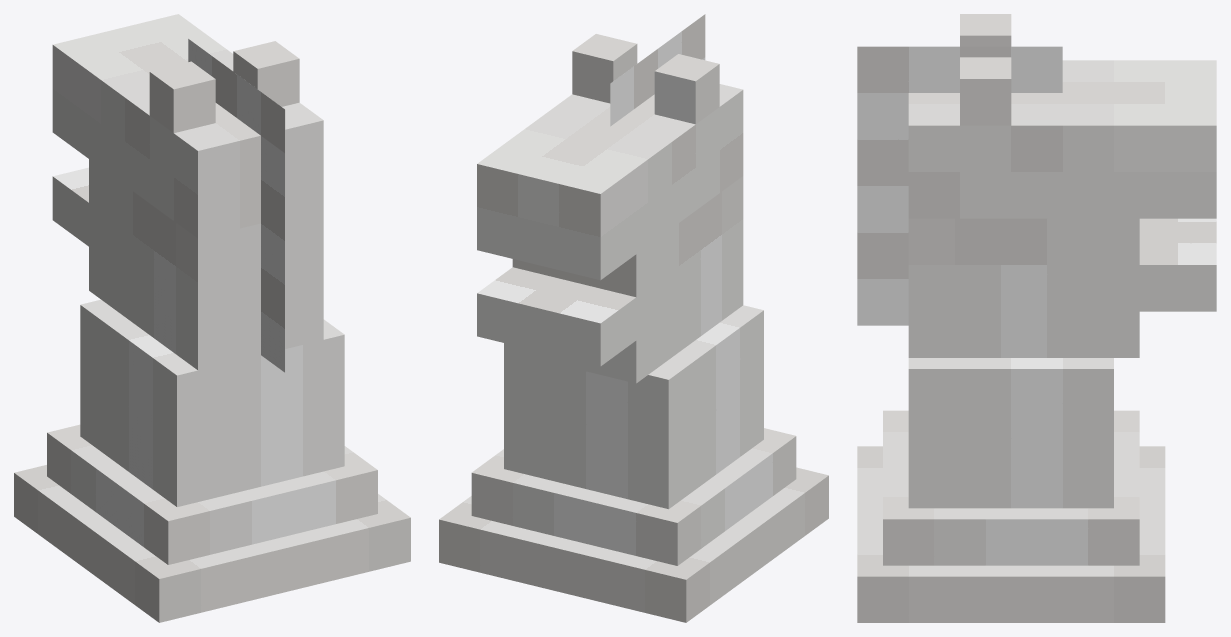
File: knight.gltf
The picture shows the model from 3 angles, left to right: view 1: azimuth 30°, elevation 25°; view 2: azimuth 150°, elevation 25°; view 3: azimuth 270°, elevation 25°; orthographic projection. The views are drawn at different scales.
Visible parts, largest first — view 1: cube (×10); view 2: cube (×9); view 3: cube (×10).
Part boxes in pixels (left/top/right/bottom): cube (×10): left=14, top=14, right=410, bottom=622; cube (×9): left=439, top=14, right=828, bottom=622; cube (×10): left=857, top=14, right=1216, bottom=622.
Bounding box in the file's own units: 0.375 × 0.6875 × 0.4375.
1 material, 1 textured.
